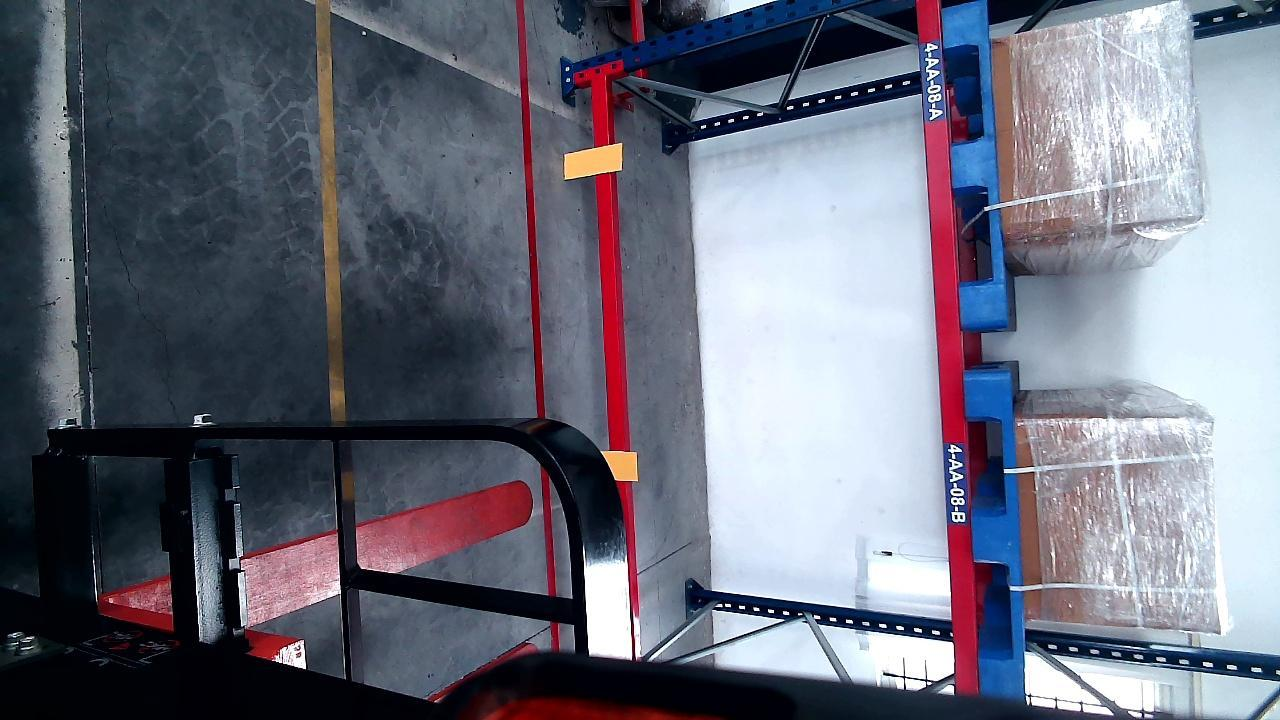red_line: (515, 4, 556, 609)
yellow_line: (319, 1, 345, 415)
